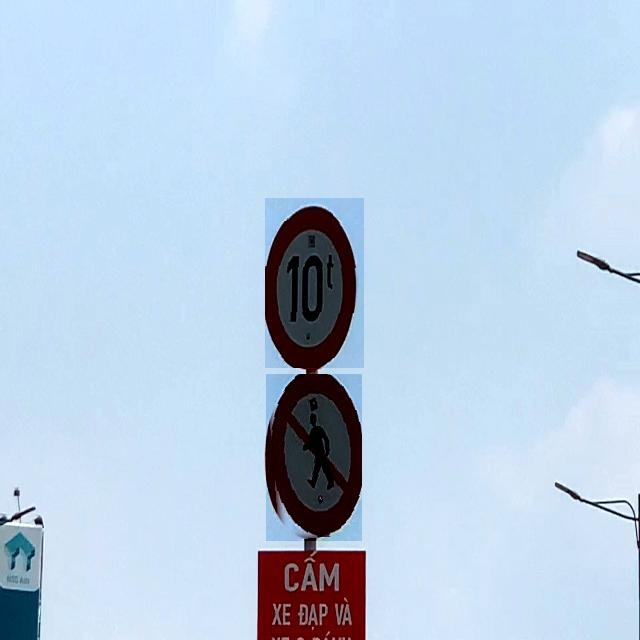bien_cam: (265, 198, 364, 368), (266, 374, 362, 541)
